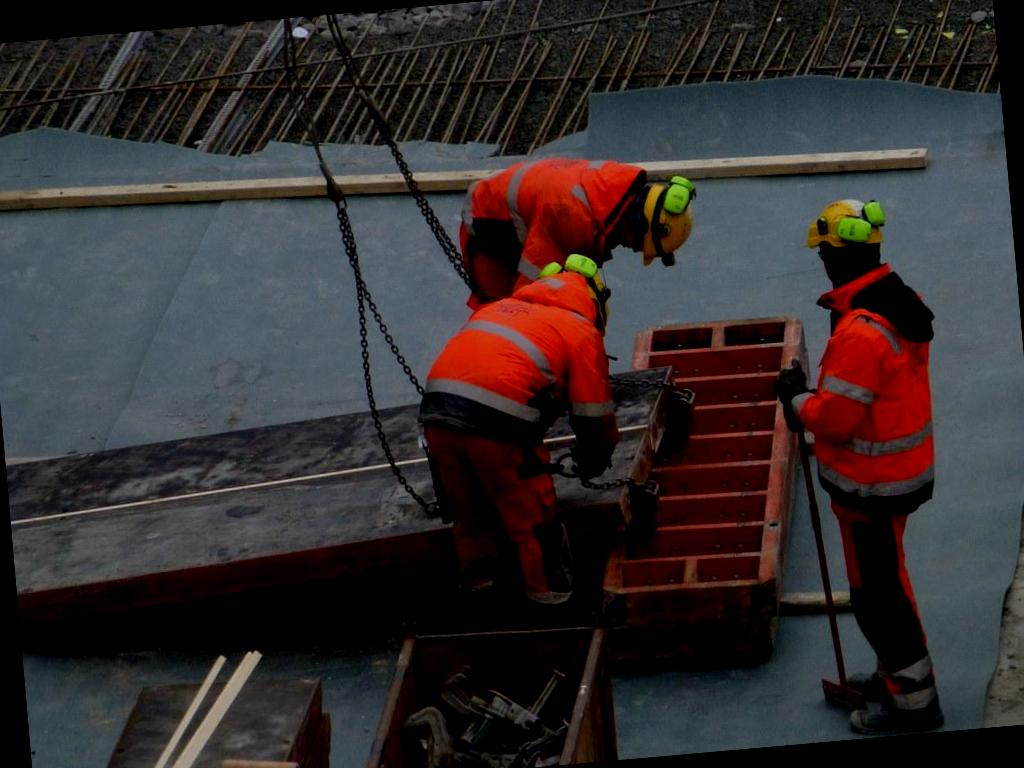person: (756, 184, 973, 744), (396, 235, 640, 642)
